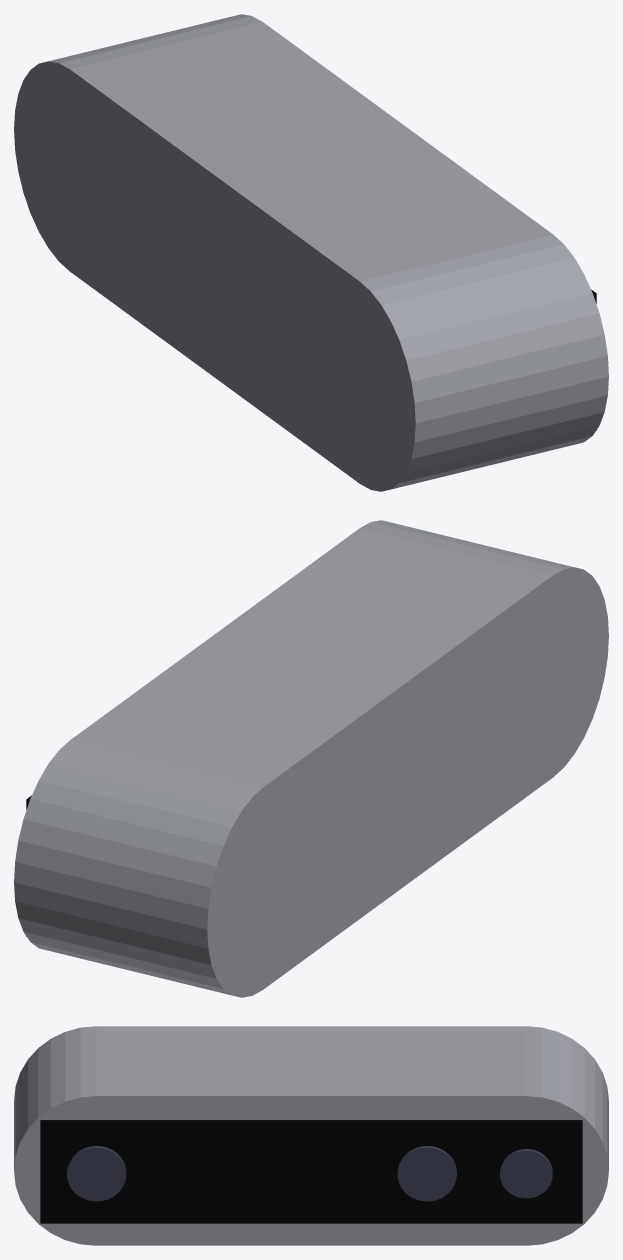
3 views of the same model, one above another, from view 1: azimuth 30°, elevation 25°; view 2: azimuth 150°, elevation 25°; view 3: azimuth 270°, elevation 25° (orthographic). The views are drawn at different scales.
Parts seen in each view (by area): view 1: n0; view 2: n0; view 3: n0, n1, n2.
Part boxes in pixels (left/top/right/bottom): n0: left=14, top=14, right=608, bottom=491; n0: left=14, top=520, right=608, bottom=997; n0: left=14, top=1026, right=608, bottom=1245; n1: left=40, top=1120, right=582, bottom=1223; n2: left=67, top=1146, right=552, bottom=1201.
Bounding box in the file's own units: 0.0263 × 0.09 × 0.025.
